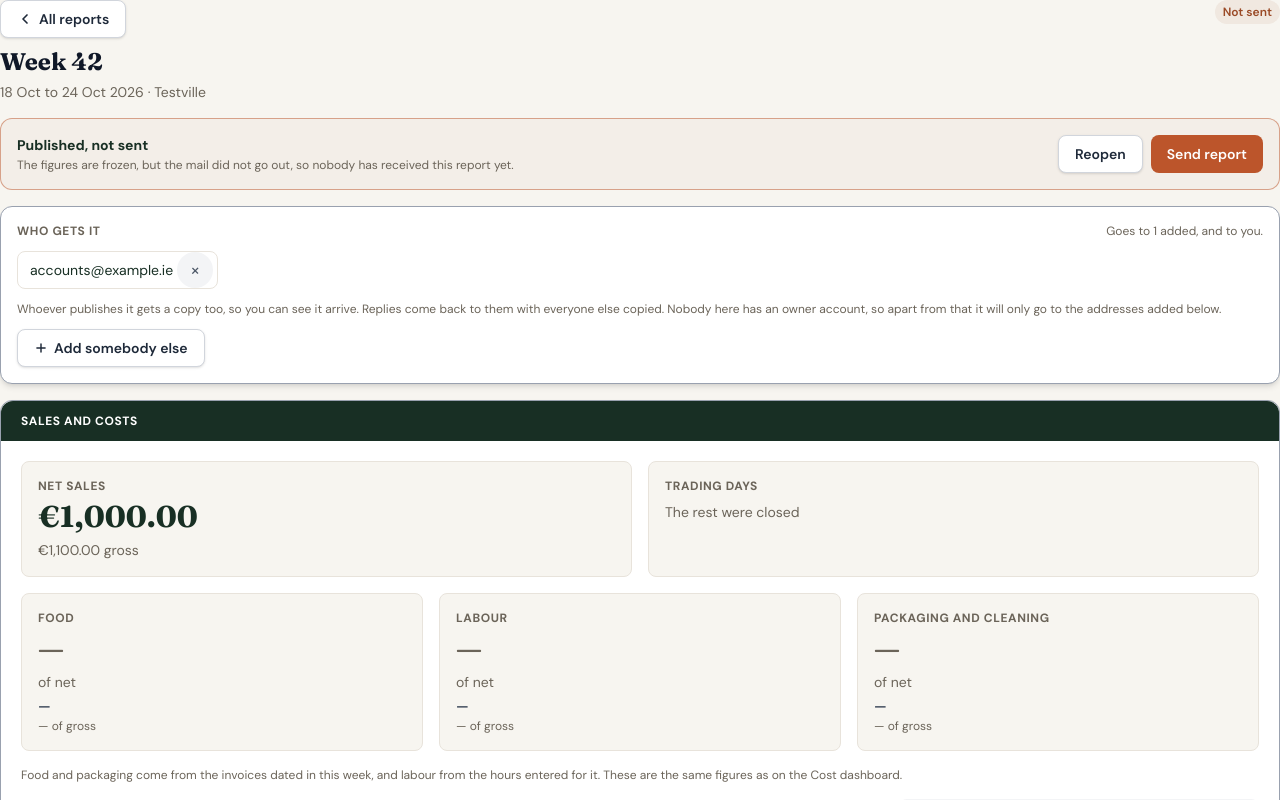
it: a report published but not sent › sends it as it was frozen, and writes nothing to the report
The image size is (1280, 800).
Step 1. Click the button "Send report" → click(1207, 154), box x1=1151 y1=135 x2=1263 y2=173
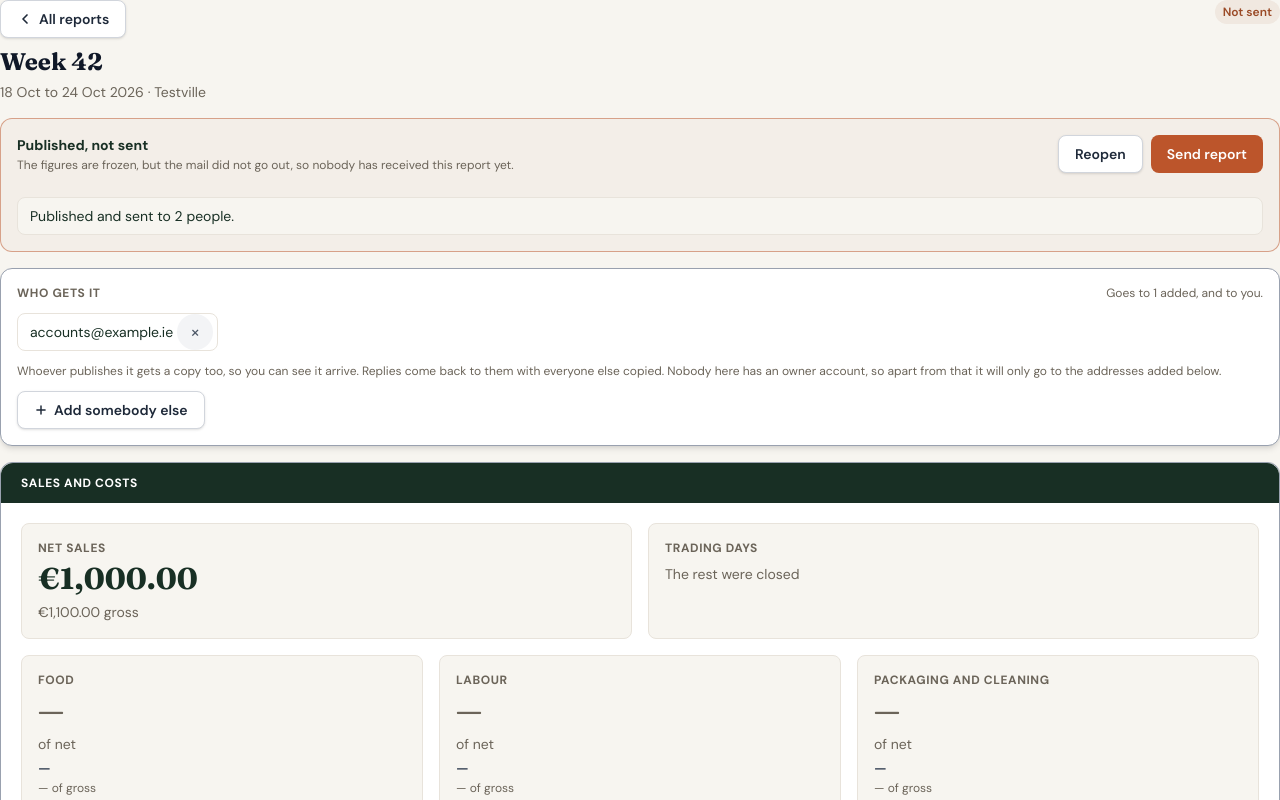
Expected: the text "Published and sent to 2 people." is shown, x1=17 y1=197 x2=1263 y2=235
